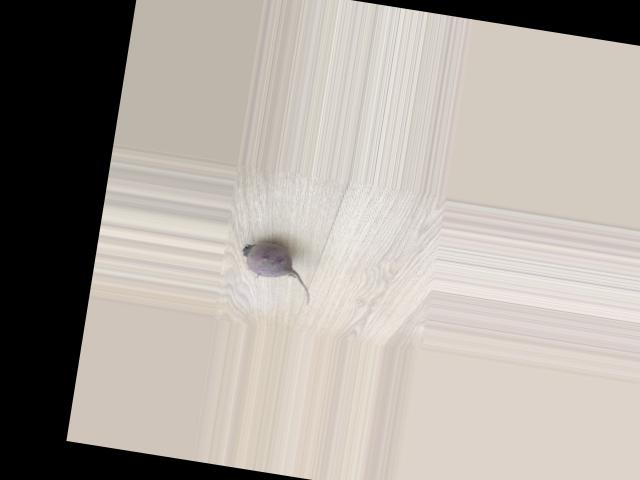beet: (237, 238, 319, 305)
